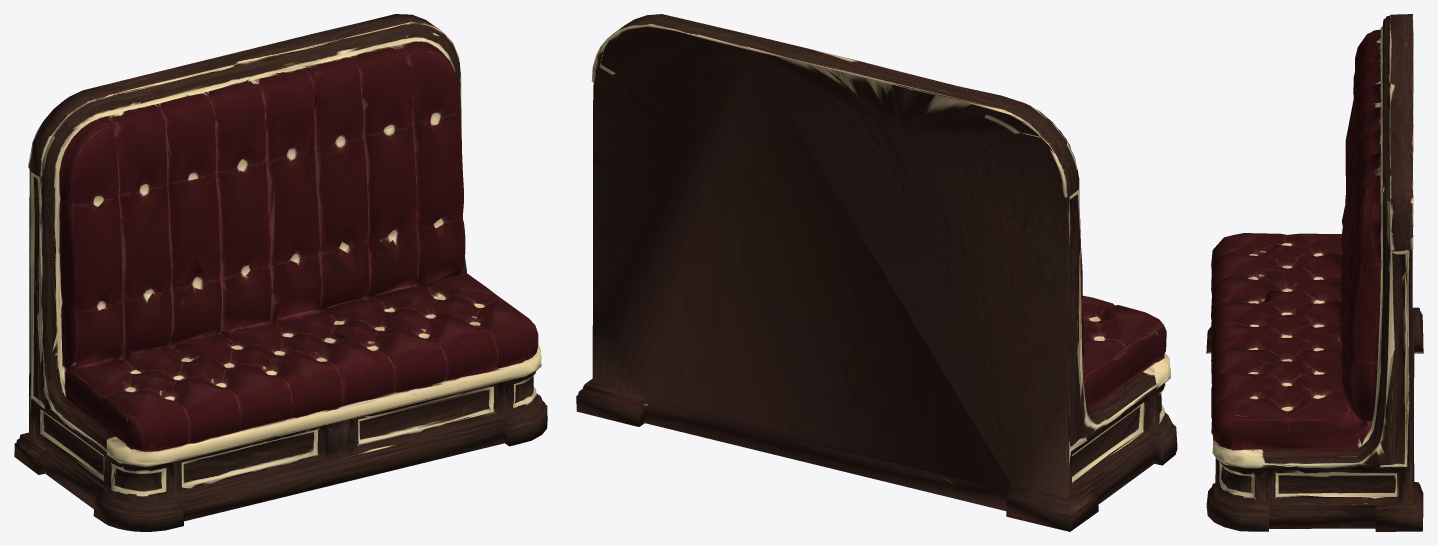
File: booth.glb
3 views of the same model, side by side, from view 1: azimuth 30°, elevation 25°; view 2: azimuth 150°, elevation 25°; view 3: azimuth 270°, elevation 25° (orthographic). The views are drawn at different scales.
Visible parts, largest first — view 1: Mesh_0; view 2: Mesh_0; view 3: Mesh_0.
Part boxes in pixels (x1,y1,x2,y2): Mesh_0: [14, 14, 547, 531]; Mesh_0: [576, 14, 1177, 531]; Mesh_0: [1206, 14, 1423, 531].
Size of the model in its own units: 1.43 by 1.1 by 0.6373.
1 material, 1 textured.
